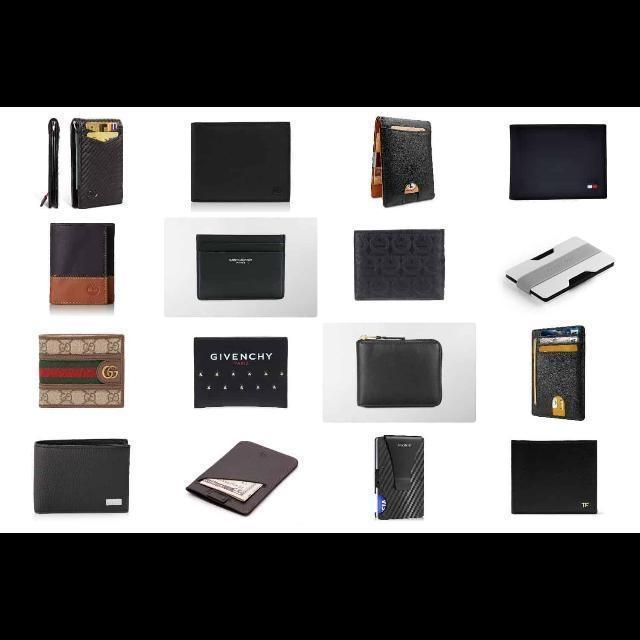Wallet: (180, 435, 302, 519), (187, 116, 296, 204), (504, 119, 610, 200), (504, 233, 618, 305), (190, 332, 292, 412), (31, 436, 133, 516), (505, 433, 601, 515), (35, 329, 127, 408), (352, 224, 446, 300), (354, 332, 444, 410), (368, 112, 438, 208), (190, 231, 286, 301), (526, 322, 588, 422), (68, 114, 128, 213), (48, 220, 114, 306), (371, 431, 429, 522), (37, 115, 65, 212)
